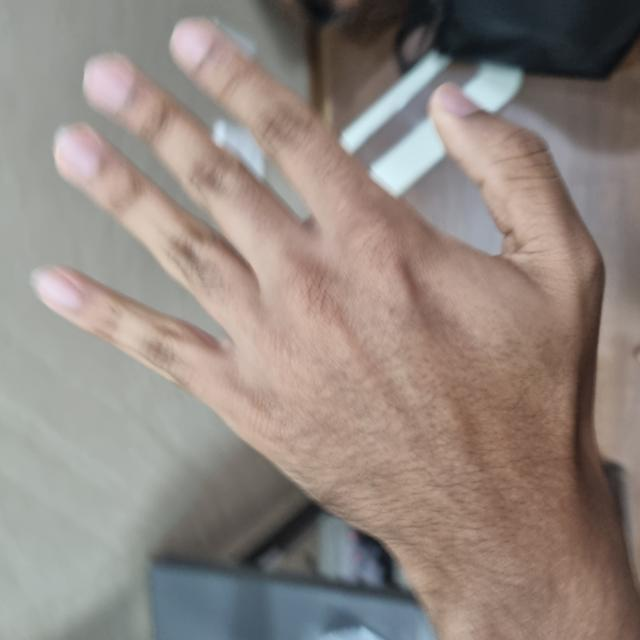Paper: (67, 41, 621, 600)
